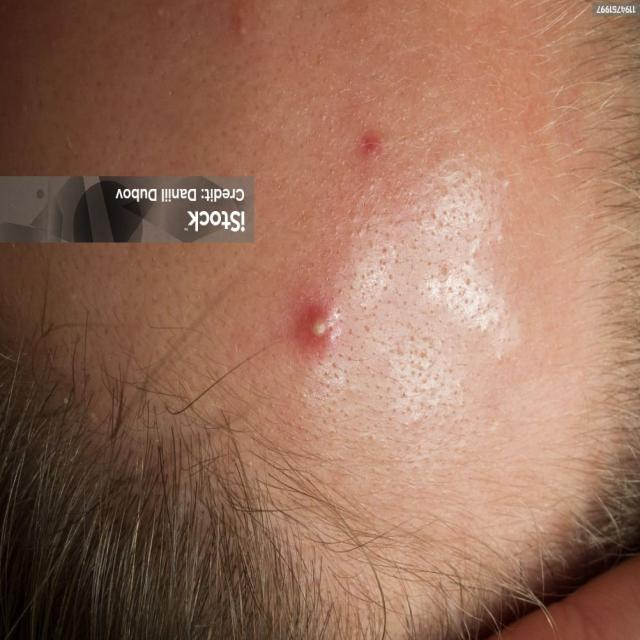blackhead: (215, 0, 261, 44), (147, 0, 177, 32)
papule: (344, 115, 386, 177)
pustule: (296, 306, 339, 353)
